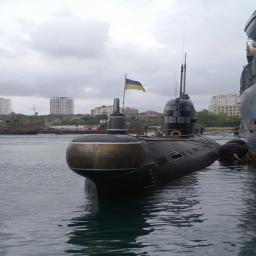submarine: (67, 54, 223, 211)
